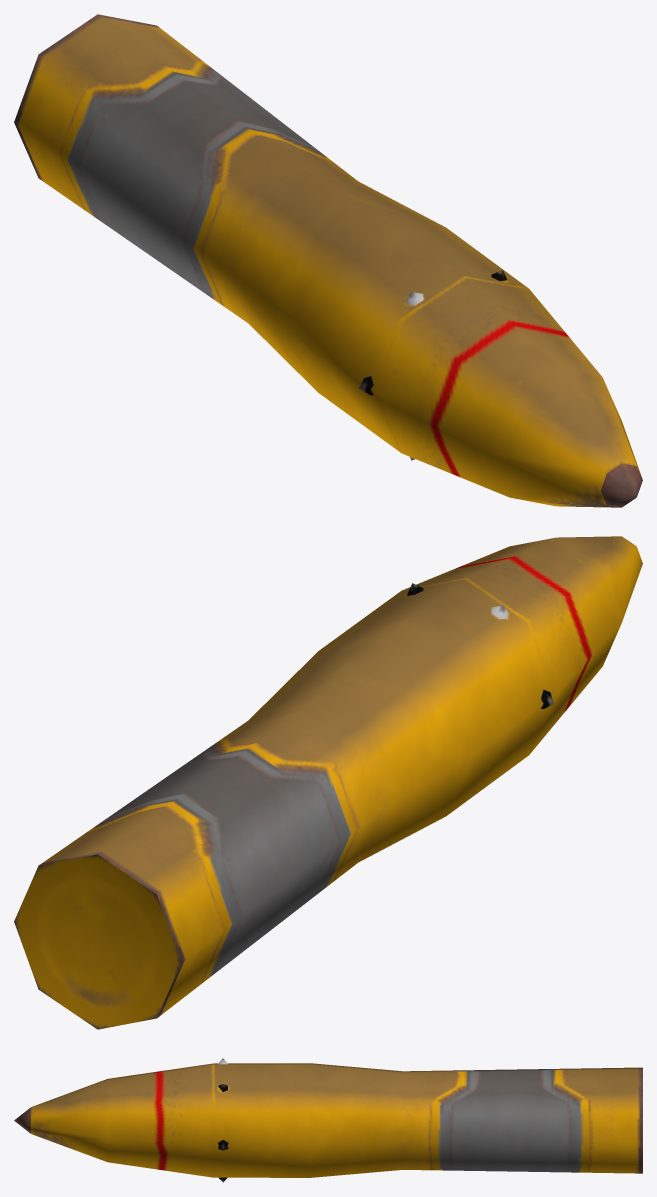
File: Rocket.fbx
The picture shows the model from 3 angles, top to bottom: view 1: azimuth 30°, elevation 25°; view 2: azimuth 150°, elevation 25°; view 3: azimuth 270°, elevation 25°; orthographic projection. The views are drawn at different scales.
Visible parts, largest first — view 1: Rocket; view 2: Rocket; view 3: Rocket.
Part boxes in pixels (bbox=[...]): Rocket: bbox=[14, 14, 642, 507]; Rocket: bbox=[14, 536, 642, 1029]; Rocket: bbox=[14, 1058, 642, 1182].
Bounding box in the file's own units: 20.76 × 19.25 × 99.25.
